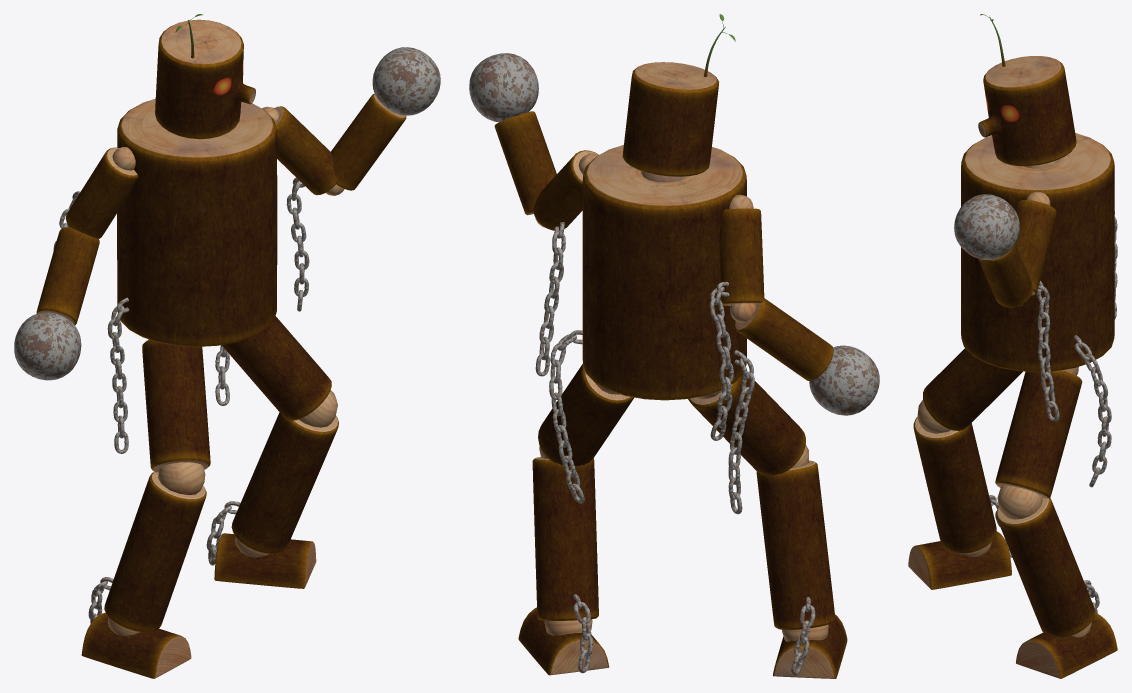
The model's file is mokujin.glb.
3 views of the same model, side by side, from view 1: azimuth 30°, elevation 25°; view 2: azimuth 150°, elevation 25°; view 3: azimuth 270°, elevation 25° (orthographic). The views are drawn at different scales.
Parts seen in each view (by area): view 1: Cylinder.015_Mokujin_0_P1, Cylinder.011_Mokujin_0_P1, Cylinder.011_Mokujin_0_P4, Cylinder.012_Mokujin_0_P1, Cylinder.008_Mokujin_0_P3, Cylinder.012_Mokujin_0_P5, Cylinder.015_Mokujin_0_P2, Cube.013_Mokujin_0_A, Cube.013_Mokujin_0_B, Cylinder.013_Mokujin_0_P1, Cylinder.010_Mokujin_0_P7, Cylinder.013_Mokujin_0_P4 (+7 smaller); view 2: Cylinder.015_Mokujin_0_P1, Cylinder.011_Mokujin_0_P1, Cylinder.011_Mokujin_0_P4, Cylinder.008_Mokujin_0_P3, Cylinder.015_Mokujin_0_P2, Cylinder.012_Mokujin_0_P1, Cylinder.012_Mokujin_0_P5, Cylinder.009_Mokujin_0_P1, Cylinder.013_Mokujin_0_P1, Cube.013_Mokujin_0_B, Cylinder.013_Mokujin_0_P4, Cube.013_Mokujin_0_A (+6 smaller); view 3: Cylinder.015_Mokujin_0_P1, Cylinder.011_Mokujin_0_P4, Cylinder.011_Mokujin_0_P1, Cylinder.012_Mokujin_0_P5, Cylinder.008_Mokujin_0_P3, Cylinder.012_Mokujin_0_P1, Cylinder.015_Mokujin_0_P2, Cube.013_Mokujin_0_B, Cylinder.010_Mokujin_0_P1, Cylinder.010_Mokujin_0_P7, Cylinder.014_Mokujin_0_P1, Cylinder.013_Mokujin_0_P4 (+5 smaller).
Part boxes in pixels (bbox=[...]): Cylinder.015_Mokujin_0_P1: bbox=[117, 103, 277, 346]; Cylinder.011_Mokujin_0_P1: bbox=[104, 472, 206, 632]; Cylinder.011_Mokujin_0_P4: bbox=[231, 412, 338, 553]; Cylinder.012_Mokujin_0_P1: bbox=[142, 339, 210, 471]; Cylinder.008_Mokujin_0_P3: bbox=[155, 24, 243, 139]; Cylinder.012_Mokujin_0_P5: bbox=[222, 316, 331, 420]; Cylinder.015_Mokujin_0_P2: bbox=[121, 98, 272, 157]; Cube.013_Mokujin_0_A: bbox=[14, 312, 81, 380]; Cube.013_Mokujin_0_B: bbox=[372, 47, 440, 115]; Cylinder.013_Mokujin_0_P1: bbox=[36, 227, 99, 325]; Cylinder.010_Mokujin_0_P7: bbox=[214, 533, 313, 588]; Cylinder.013_Mokujin_0_P4: bbox=[331, 93, 406, 190]; Cylinder.015_Mokujin_0_P1: bbox=[582, 149, 746, 400]; Cylinder.011_Mokujin_0_P1: bbox=[756, 462, 835, 629]; Cylinder.011_Mokujin_0_P4: bbox=[532, 458, 598, 620]; Cylinder.008_Mokujin_0_P3: bbox=[622, 66, 719, 176]; Cylinder.015_Mokujin_0_P2: bbox=[587, 145, 742, 205]; Cylinder.012_Mokujin_0_P1: bbox=[688, 374, 805, 475]; Cylinder.012_Mokujin_0_P5: bbox=[538, 364, 634, 466]; Cylinder.009_Mokujin_0_P1: bbox=[719, 208, 764, 304]; Cylinder.013_Mokujin_0_P1: bbox=[735, 298, 833, 380]; Cube.013_Mokujin_0_B: bbox=[469, 53, 538, 122]; Cylinder.013_Mokujin_0_P4: bbox=[494, 111, 556, 214]; Cube.013_Mokujin_0_A: bbox=[809, 345, 879, 415]; Cylinder.015_Mokujin_0_P1: bbox=[961, 139, 1114, 372]; Cylinder.011_Mokujin_0_P4: bbox=[996, 498, 1095, 637]; Cylinder.011_Mokujin_0_P1: bbox=[913, 417, 996, 553]; Cylinder.012_Mokujin_0_P5: bbox=[995, 370, 1082, 498]; Cylinder.008_Mokujin_0_P3: bbox=[983, 59, 1076, 166]; Cylinder.012_Mokujin_0_P1: bbox=[923, 348, 1022, 430]; Cylinder.015_Mokujin_0_P2: bbox=[965, 133, 1110, 189]; Cube.013_Mokujin_0_B: bbox=[954, 194, 1019, 259]; Cylinder.010_Mokujin_0_P1: bbox=[912, 531, 1011, 589]; Cylinder.010_Mokujin_0_P7: bbox=[1016, 613, 1117, 678]; Cylinder.014_Mokujin_0_P1: bbox=[1015, 200, 1056, 294]; Cylinder.013_Mokujin_0_P4: bbox=[978, 243, 1033, 307].
Bounding box in the file's own units: 1.3 × 1.9 × 0.6086.
1 material, 1 textured.
